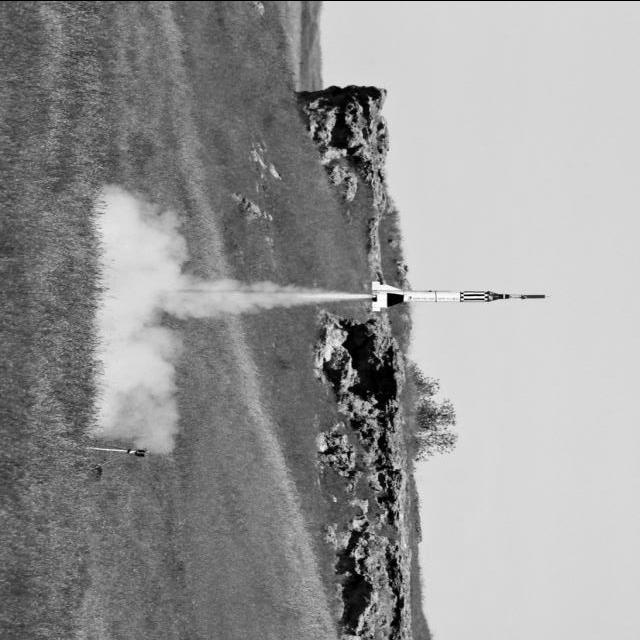missile: (369, 278, 547, 312)
